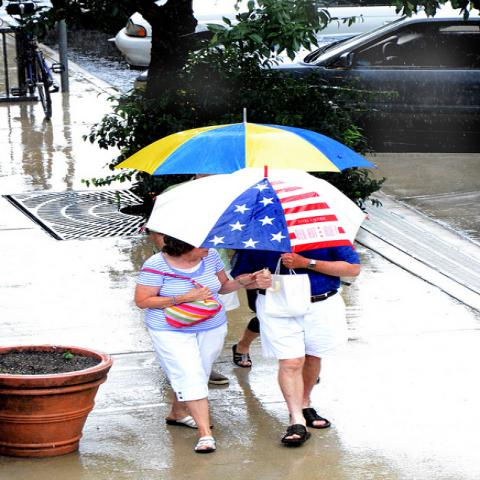car: (264, 12, 479, 139), (108, 0, 479, 69)
